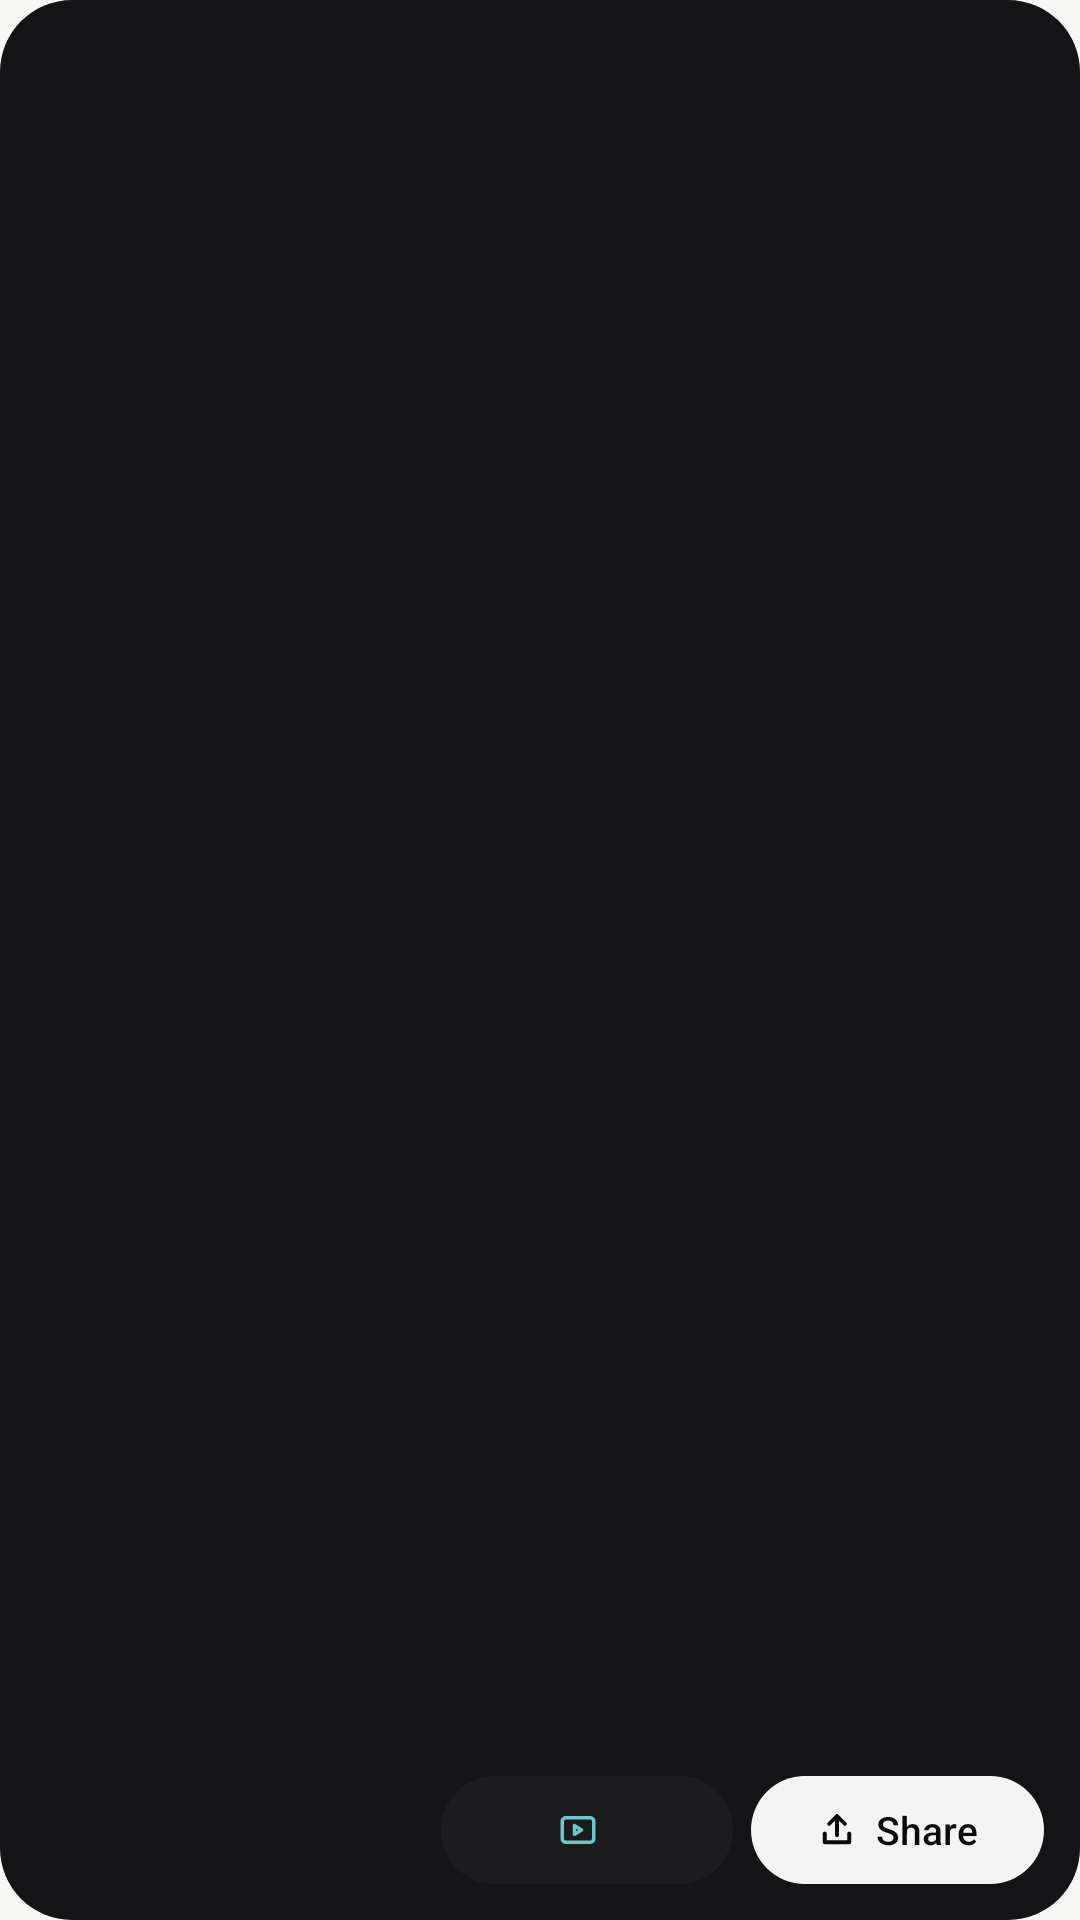

Where icons sit on this 1080w x 1920h app screen, as {"x1": x1, "y1": y1, "x2": x2, "y2": y2}:
video: {"x1": 560, "y1": 1816, "x2": 596, "y2": 1844}
